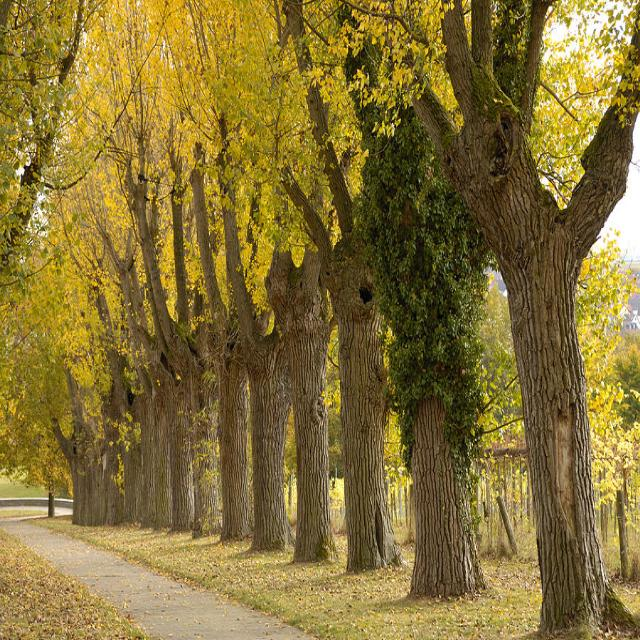Populus nigra: (409, 0, 640, 635), (354, 0, 520, 614), (283, 0, 417, 599), (262, 0, 351, 574), (198, 0, 264, 536), (228, 0, 292, 544), (150, 0, 207, 520)
